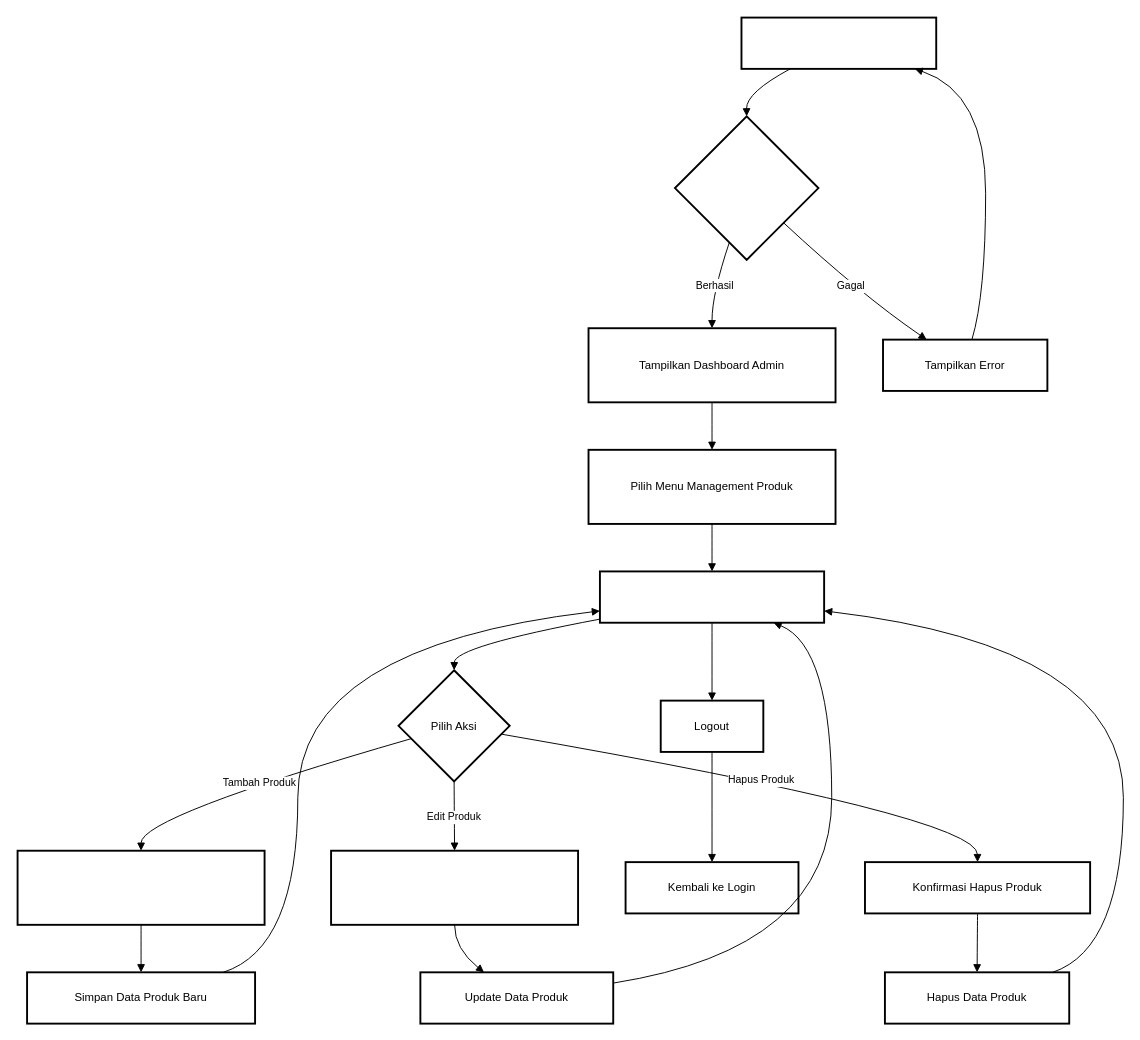
Some shapes in this 1140 by 1040 pixel diagram are drawn without their labels. The shapes that lost their labels are listed below. From the top down, each one's box as (x1, y1, x2, y2) in pixels, then its label:
(740, 16, 937, 69): Login sebagai Admin
(674, 115, 819, 260): Validasi Login
(598, 570, 825, 623): Tampilkan Daftar Produk
(16, 849, 265, 925): Tampilkan Form Tambah Produk
(330, 849, 579, 925): Tampilkan Form Edit Produk
